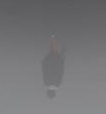person: (41, 32, 67, 99)
